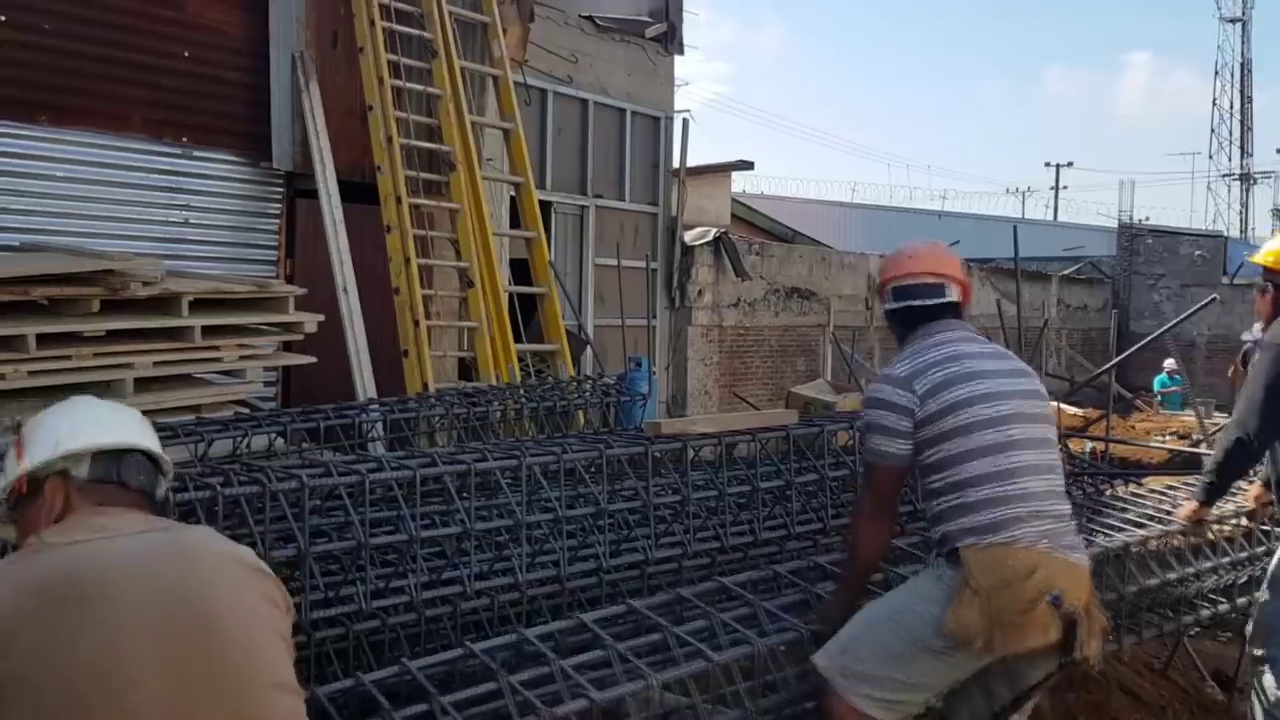helmet: (0, 407, 172, 510), (866, 239, 977, 310), (1242, 238, 1280, 284), (1162, 360, 1178, 373)
helmet-on: (0, 404, 178, 542), (870, 236, 979, 345), (1241, 239, 1280, 331), (1161, 361, 1178, 379)
person: (810, 226, 1097, 720), (0, 391, 349, 710), (1176, 235, 1280, 720), (1154, 361, 1184, 410)
